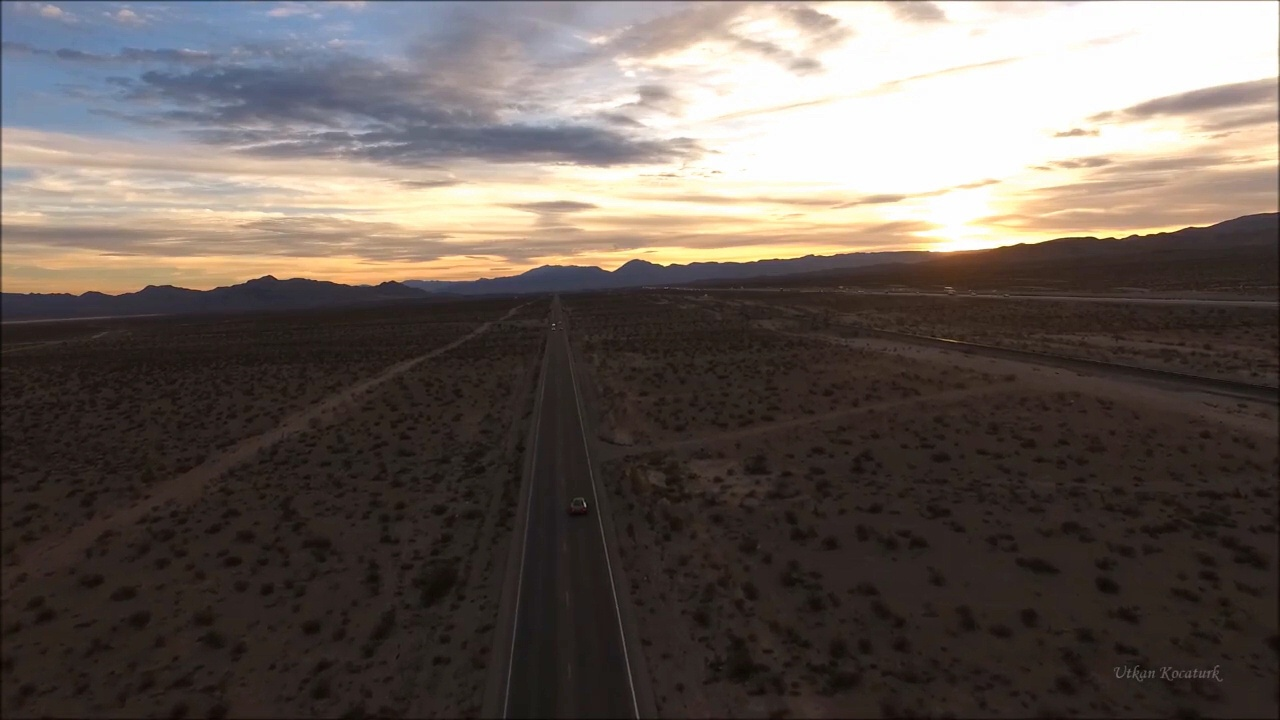araba: (568, 495, 588, 513)
